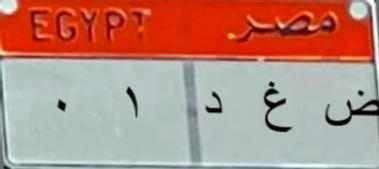0: (47, 90, 78, 120)
1: (120, 83, 147, 128)
daad: (320, 80, 379, 130)
daal: (201, 83, 226, 128)
ghayn: (260, 73, 299, 141)
